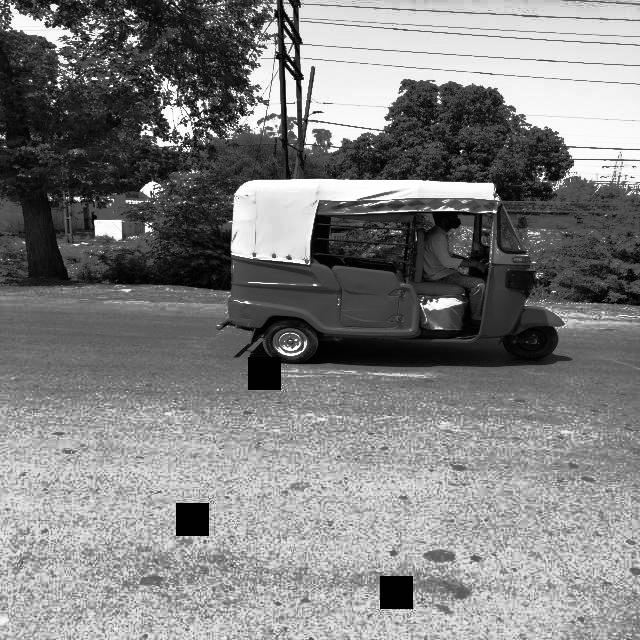Auto-Rickshaw: (217, 167, 572, 377)
